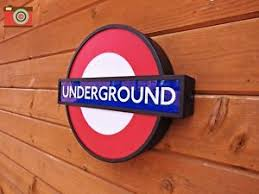London Underground: (60, 26, 183, 162)
